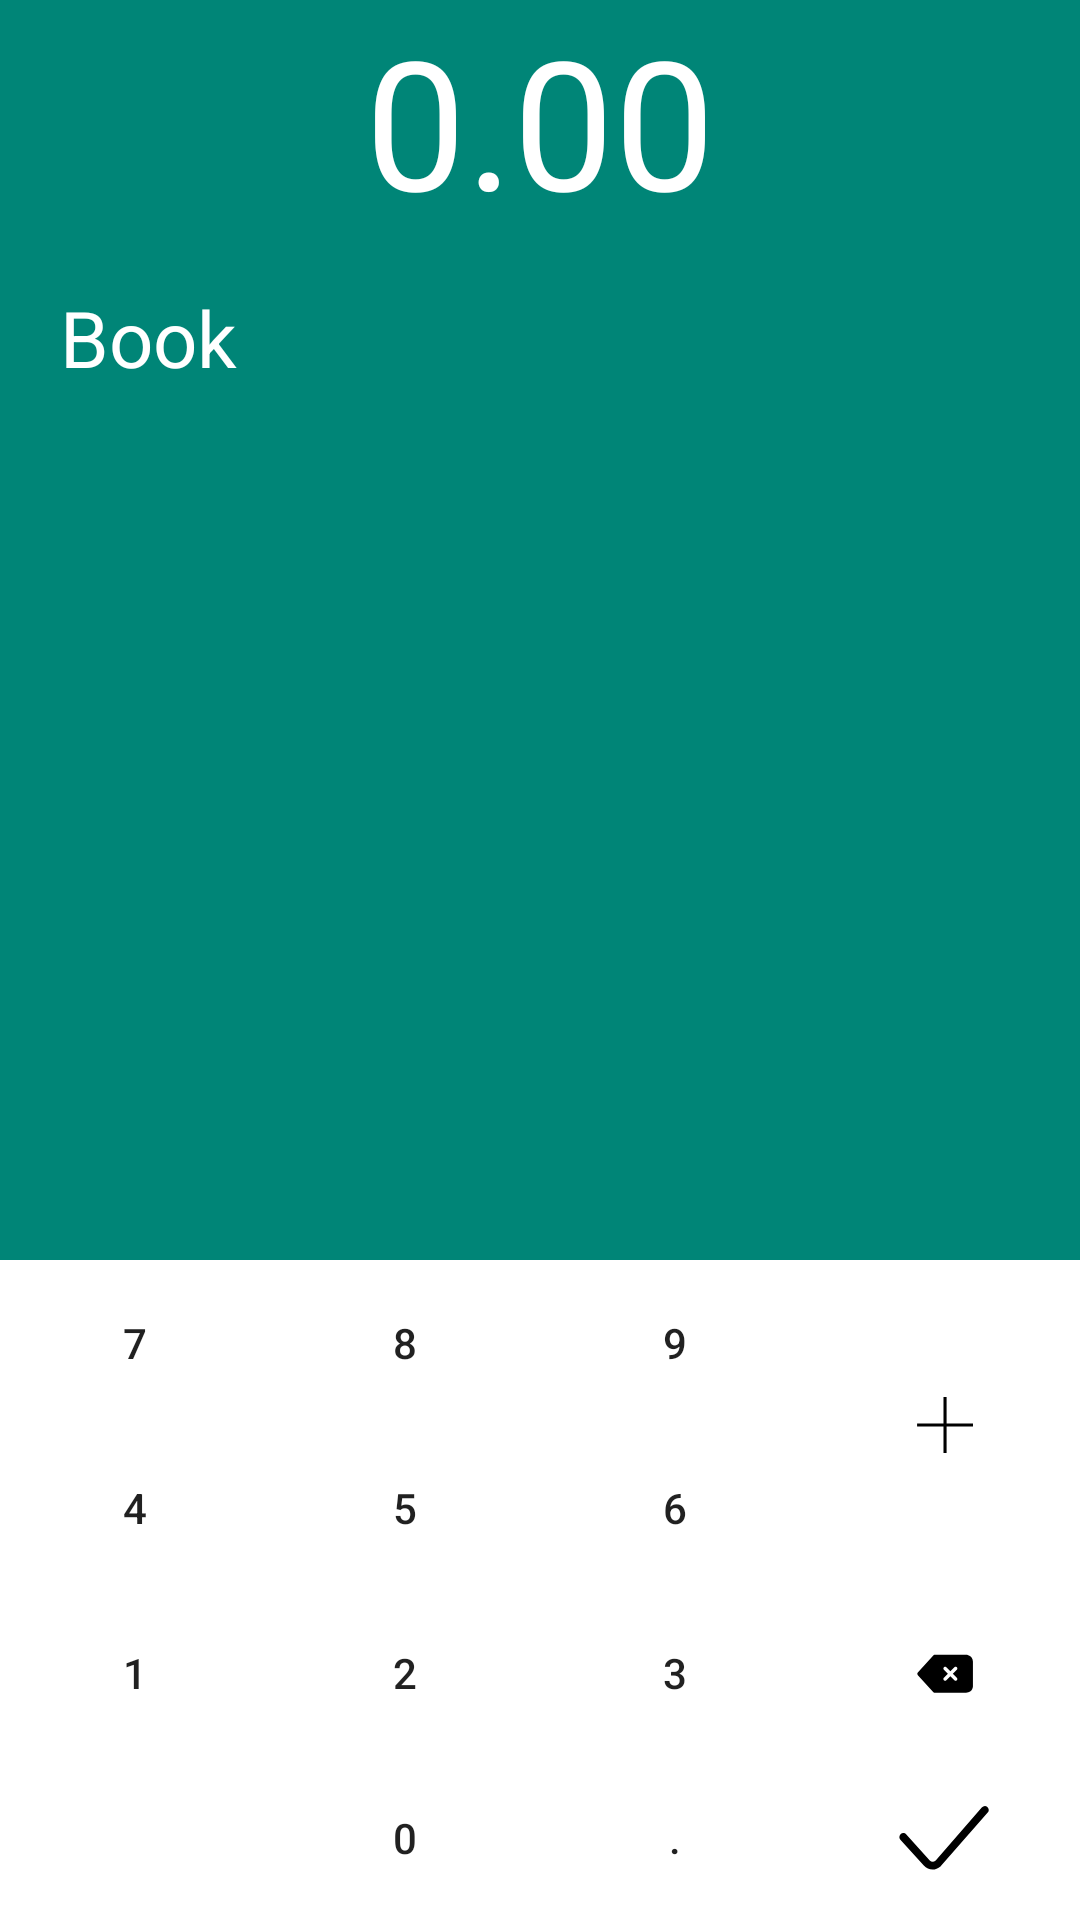

Icons on this 1080px×1920px Android screen, each with the point to tap as point (x, y):
add: point (945, 1425)
backspace: point (945, 1673)
select: point (944, 1838)
